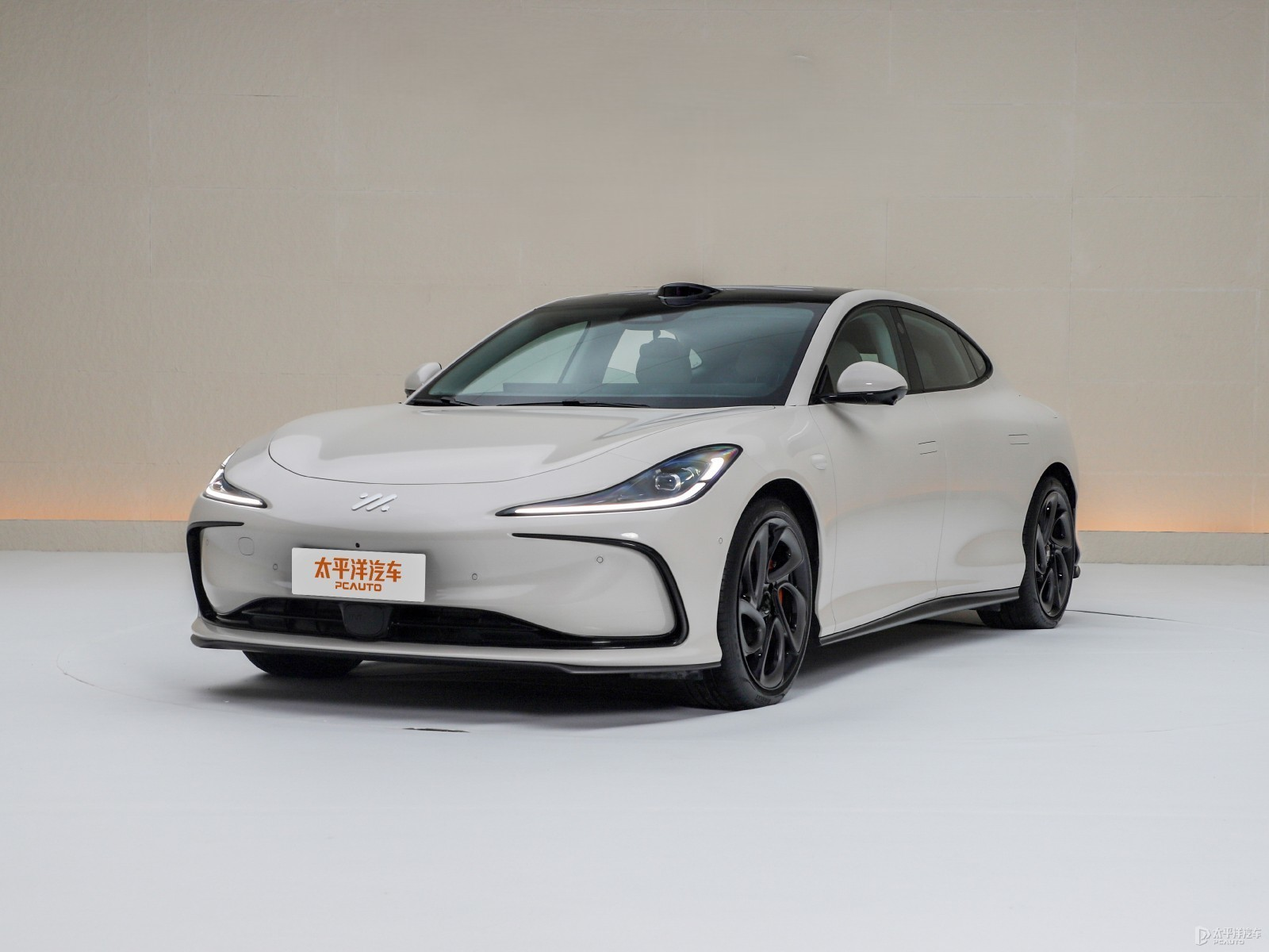IM: (352, 493, 397, 512)
